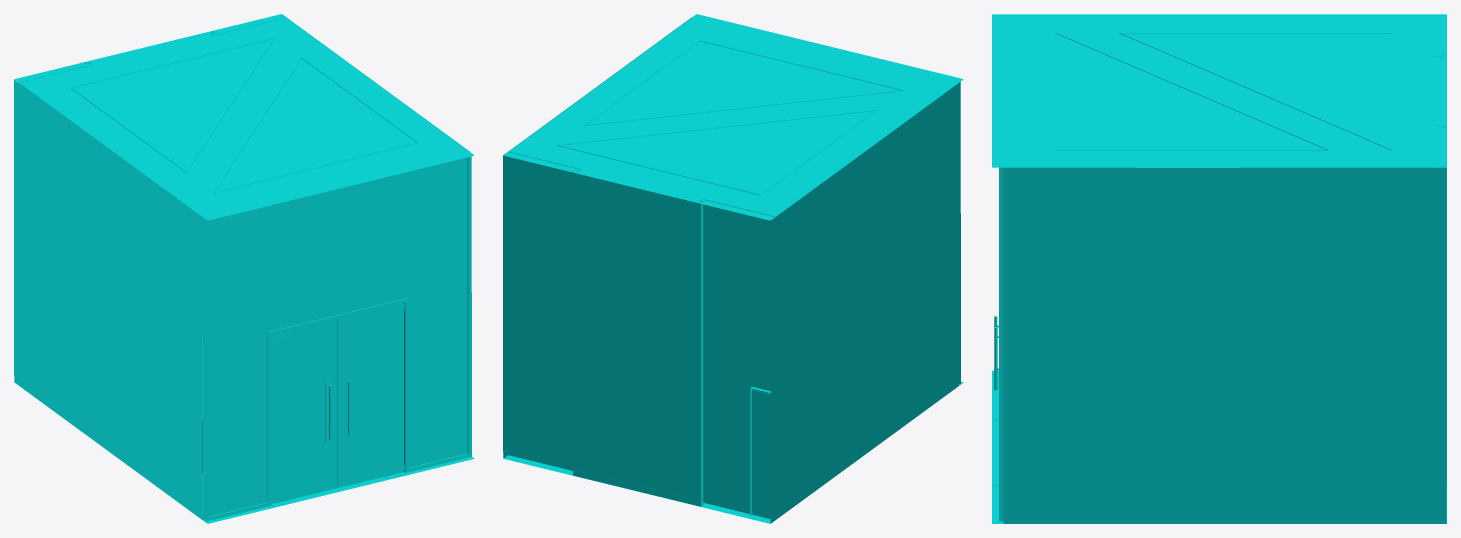
File: 3DPRINT ROOM.fbx
3 views of the same model, side by side, from view 1: azimuth 30°, elevation 25°; view 2: azimuth 150°, elevation 25°; view 3: azimuth 270°, elevation 25° (orthographic). The views are drawn at different scales.
Parts seen in each view (by area): view 1: DPRINT_ROOM; view 2: DPRINT_ROOM; view 3: DPRINT_ROOM.
Part boxes in pixels (x1=…): DPRINT_ROOM: x1=14, y1=14, x2=474, y2=523; DPRINT_ROOM: x1=503, y1=14, x2=963, y2=523; DPRINT_ROOM: x1=992, y1=14, x2=1446, y2=523.
Bounding box in the file's own units: 5.53 × 5.99 × 6.91.
